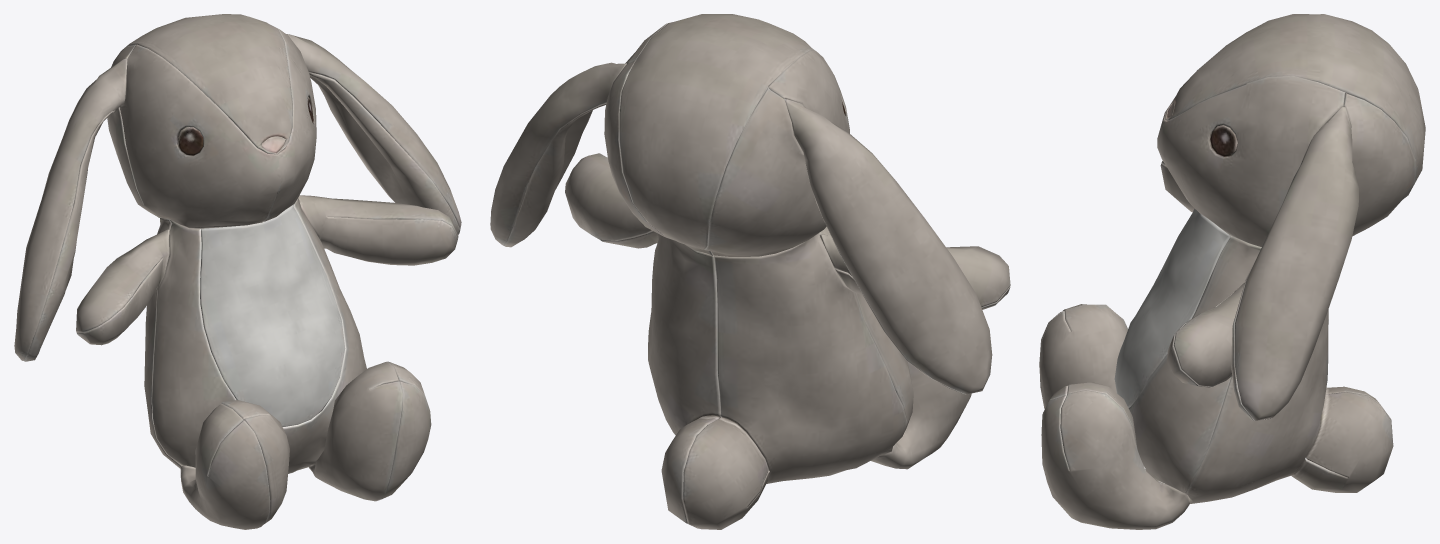
Rendered from dvarghare_pluszak_20597065.glb.
The picture shows the model from 3 angles, left to right: view 1: azimuth 30°, elevation 25°; view 2: azimuth 150°, elevation 25°; view 3: azimuth 270°, elevation 25°; orthographic projection. The views are drawn at different scales.
Visible parts, largest first — view 1: dvarghare_pluszak_20597065; view 2: dvarghare_pluszak_20597065; view 3: dvarghare_pluszak_20597065.
Part boxes in pixels (x1,y1,x2,y2): dvarghare_pluszak_20597065: [14, 14, 461, 529]; dvarghare_pluszak_20597065: [490, 14, 1010, 529]; dvarghare_pluszak_20597065: [1039, 14, 1425, 529].
Size of the model in its own units: 0.1737 by 0.1582 by 0.1212.
1 material, 1 textured.
